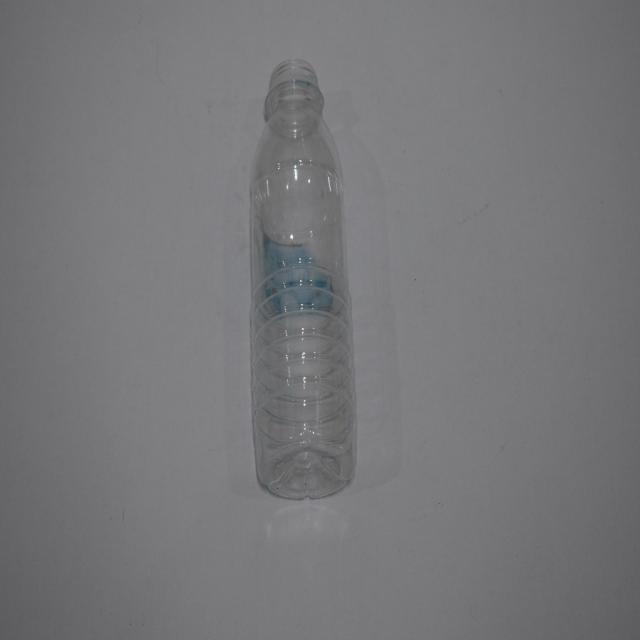bottle: (239, 50, 377, 535)
